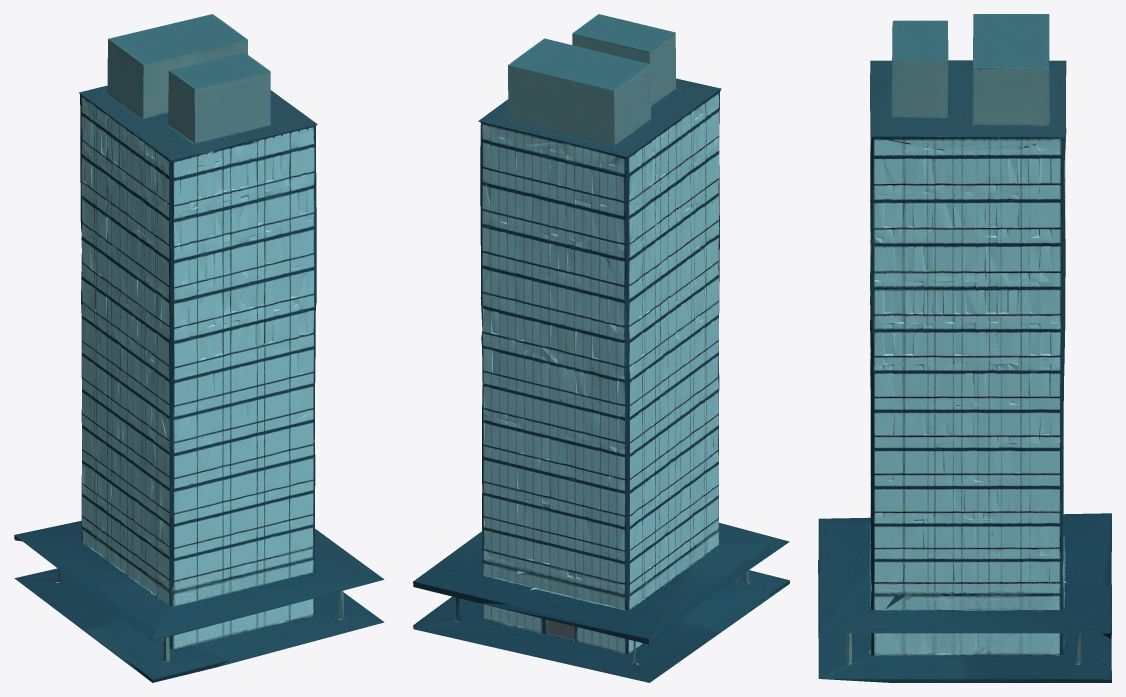
The model's file is teleopBldg_glasstower.6338509c.glb.
The picture shows the model from 3 angles, left to right: view 1: azimuth 30°, elevation 25°; view 2: azimuth 150°, elevation 25°; view 3: azimuth 270°, elevation 25°; orthographic projection. The views are drawn at different scales.
Parts seen in each view (by area): view 1: output_unwrapped; view 2: output_unwrapped; view 3: output_unwrapped.
Boxes of the visible parts, box(x1,y1,x2,y2) form: output_unwrapped: box(14, 14, 384, 682); output_unwrapped: box(413, 14, 789, 682); output_unwrapped: box(818, 14, 1111, 682).
Bounding box in the file's own units: 0.8439 × 1.9 × 0.8698.
Materials: 1 (1 with a texture image).
